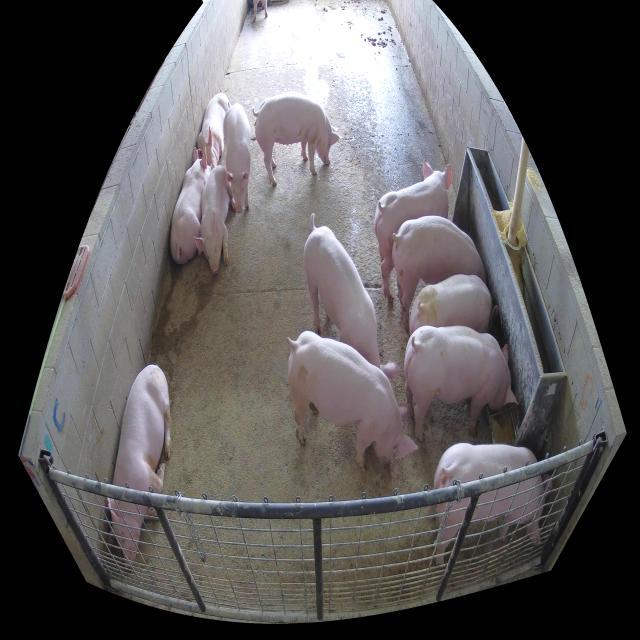pig: (287, 330, 418, 474), (304, 215, 400, 380), (434, 441, 556, 566), (405, 326, 519, 447), (106, 366, 172, 569), (375, 160, 453, 305), (394, 215, 486, 333), (252, 92, 342, 188), (410, 275, 500, 337), (170, 148, 212, 265), (194, 166, 236, 275), (223, 103, 252, 213), (198, 93, 232, 170)
